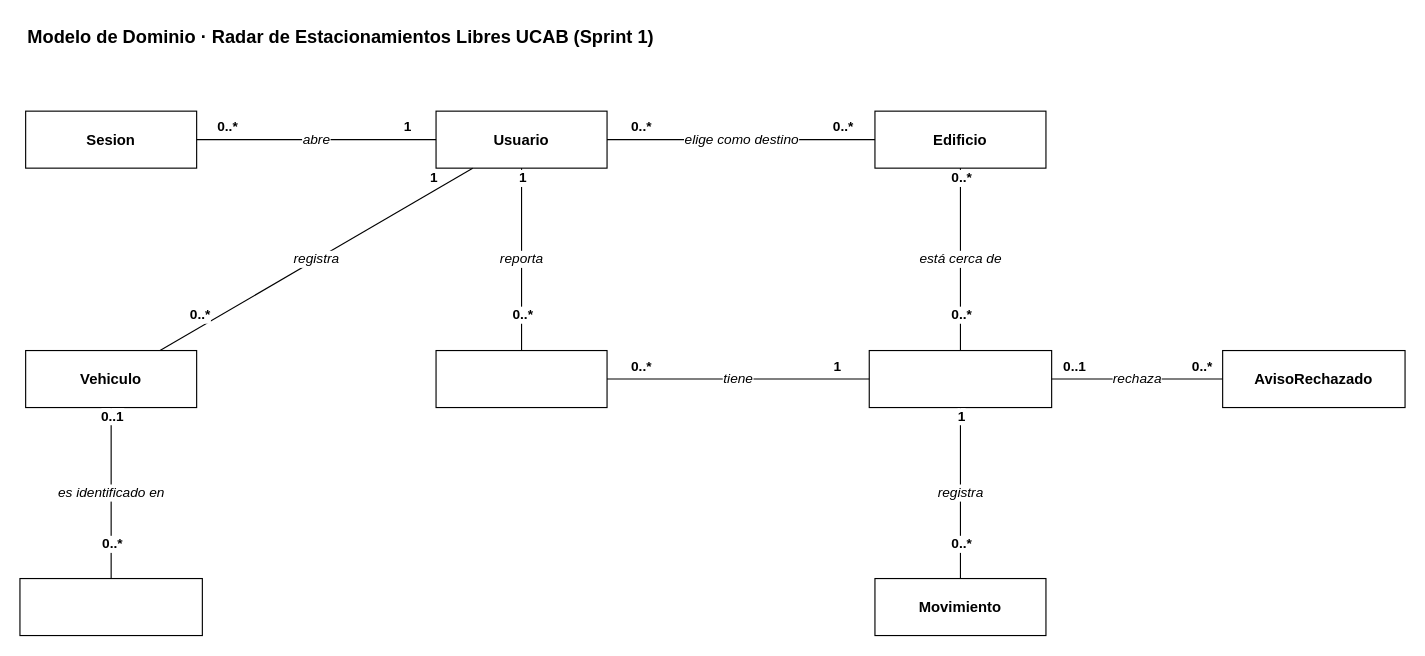
The diagram is 1425 pixels wide and 656 high, and some of its shapes have lost their labels. Here are the shapes that lost their labels. From the top down, the centre of each, then its label:
At pixel 521 378: "Incidencia".
At pixel 960 378: "Estacionamiento".
At pixel 110 606: "LecturaDePlaca".
